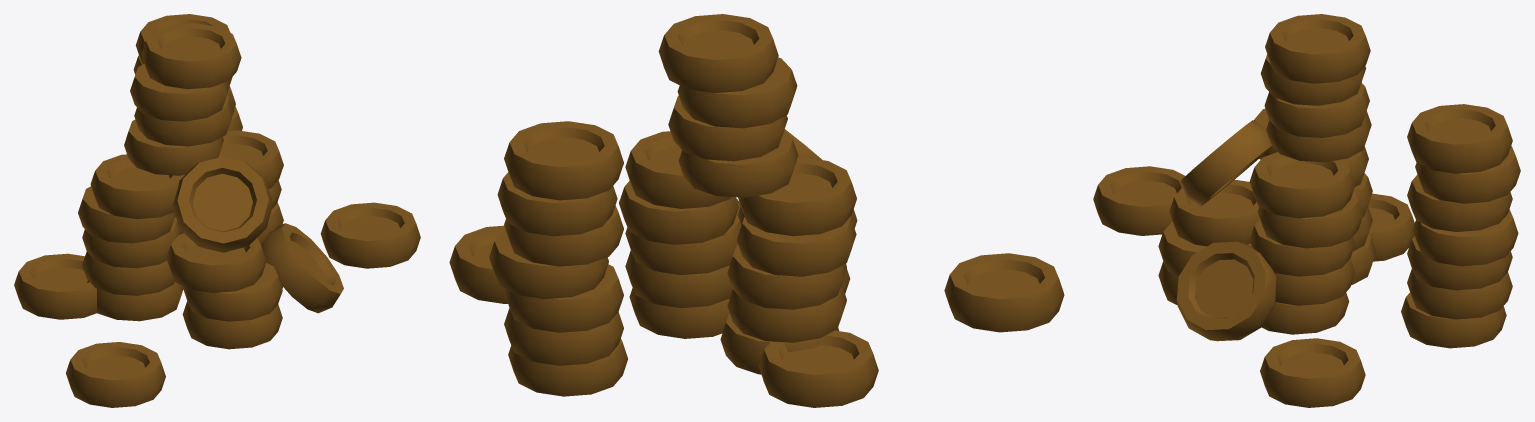
Rendered from coinsLarge.obj.
3 views of the same model, side by side, from view 1: azimuth 30°, elevation 25°; view 2: azimuth 150°, elevation 25°; view 3: azimuth 270°, elevation 25° (orthographic). The views are drawn at different scales.
Visible parts, largest first — view 1: coinsLarge_Cylinder.056; view 2: coinsLarge_Cylinder.056; view 3: coinsLarge_Cylinder.056.
Part boxes in pixels (left/top/right/bottom): coinsLarge_Cylinder.056: left=14, top=14, right=420, bottom=407; coinsLarge_Cylinder.056: left=449, top=14, right=1064, bottom=407; coinsLarge_Cylinder.056: left=1093, top=14, right=1520, bottom=407.
Size of the model in its own units: 1.59 by 0.9074 by 1.33.
